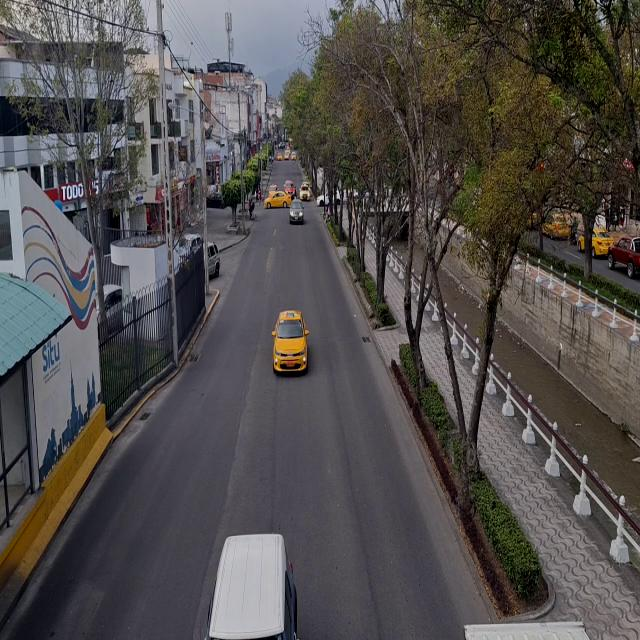CMT: (608, 236, 640, 272)
SED: (273, 313, 306, 374)
